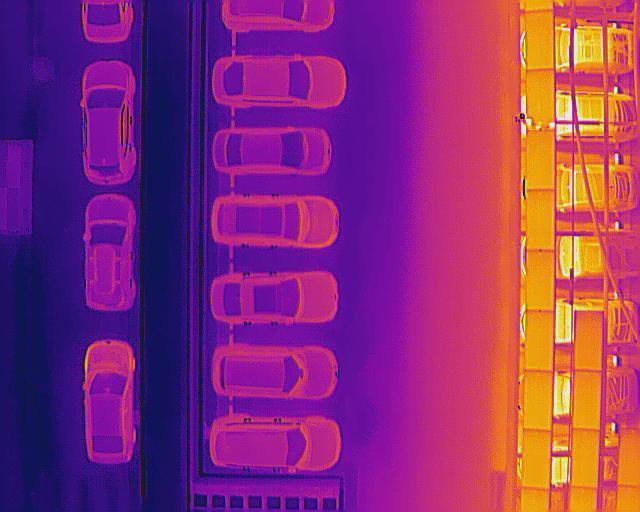Cell-Multi: (525, 69, 555, 131)
No-Anomaly: (573, 310, 606, 370), (571, 370, 603, 430), (521, 370, 553, 429), (525, 190, 556, 250), (525, 250, 554, 312), (525, 11, 556, 69), (521, 430, 550, 490), (525, 311, 553, 371), (526, 131, 554, 189), (570, 429, 598, 487), (618, 428, 640, 487)
